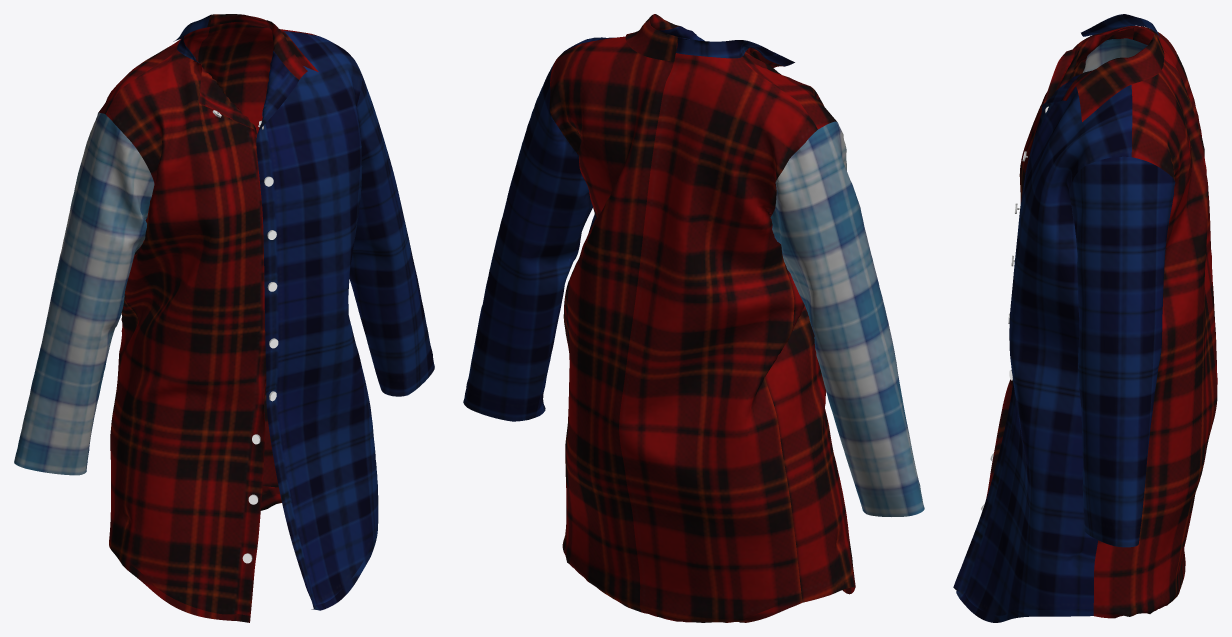
3 views of the same model, side by side, from view 1: azimuth 30°, elevation 25°; view 2: azimuth 150°, elevation 25°; view 3: azimuth 270°, elevation 25° (orthographic). The views are drawn at different scales.
Parts seen in each view (by area): view 1: Model_16; view 2: Model_16; view 3: Model_16.
Part boxes in pixels (x1,y1,x2,y2): Model_16: (14,14,434,622); Model_16: (463,14,924,622); Model_16: (953,14,1217,622).
Size of the model in its own units: 6.44 by 7.92 by 3.38.
Materials: 4 (3 with a texture image).
